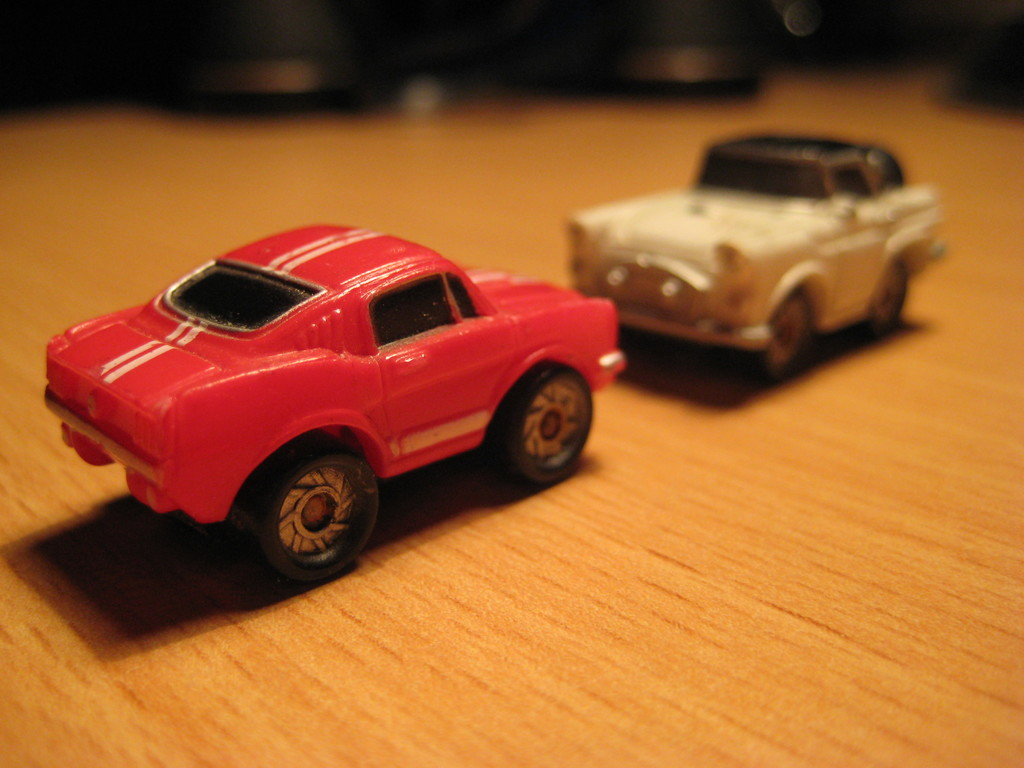Car: (44, 224, 628, 583), (566, 133, 944, 385)
